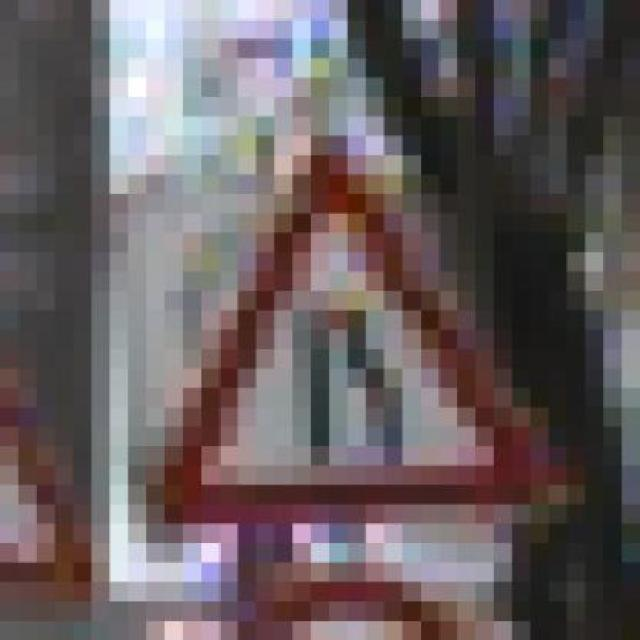-Road narrows on right: (110, 116, 567, 524)
